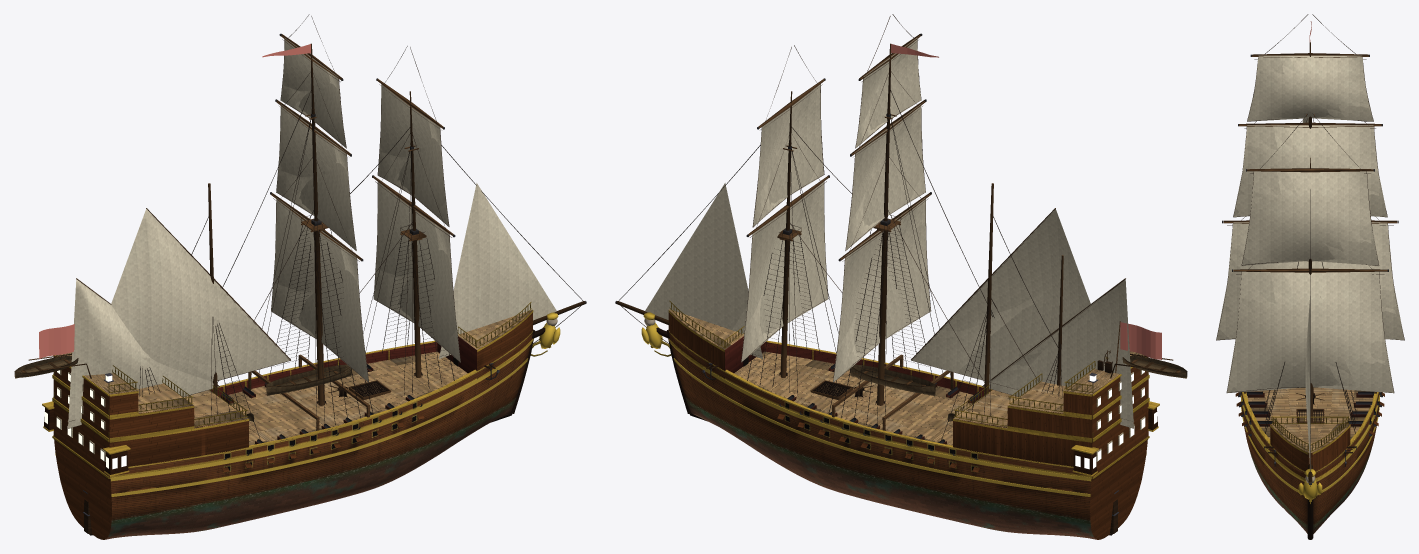
Rendered from galleon.glb.
3 renders of one model, left to right at view 1: azimuth 30°, elevation 25°; view 2: azimuth 150°, elevation 25°; view 3: azimuth 270°, elevation 25°, orthographic. The views are drawn at different scales.
Visible parts, largest first — view 1: LOD0_Body, LOD0_Wood, LOD2_m1_SquareSail, LOD2_Body, LOD2_m0_SquareSail, LOD0_m2_AftSail, LOD0_Jib, LOD0_m3_AftSail, LOD1_Wood, LOD2_Wood, LOD1_m2_AftSail, LOD0_m1_SquareSail (+11 smaller); view 2: LOD0_Wood, LOD0_Body, LOD2_m1_SquareSail, LOD2_m2_AftSail, LOD2_Body, LOD2_m0_SquareSail, LOD2_Jib, LOD1_Wood, LOD2_Wood, LOD2_m3_AftSail, LOD0_m2_AftSail, LOD0_m1_SquareSail (+11 smaller); view 3: LOD0_m0_SquareSail, LOD0_m1_SquareSail, LOD0_Body, LOD0_Wood, LOD2_Body, LOD2_m0_SquareSail, LOD1_m0_SquareSail, LOD1_m1_SquareSail, LOD2_m1_SquareSail, LOD2_m0_SquareYards, LOD2_m1_SquareYards, LOD0_m1_SquareYards (+7 smaller).
Part boxes in pixels (bbox=[...]): LOD0_Body: bbox=[53, 250, 560, 539]; LOD0_Wood: bbox=[14, 43, 586, 539]; LOD2_m1_SquareSail: bbox=[272, 38, 368, 382]; LOD2_Body: bbox=[108, 309, 532, 537]; LOD2_m0_SquareSail: bbox=[374, 85, 459, 359]; LOD0_m2_AftSail: bbox=[68, 209, 280, 421]; LOD0_Jib: bbox=[439, 183, 547, 359]; LOD0_m3_AftSail: bbox=[68, 279, 188, 428]; LOD1_Wood: bbox=[55, 91, 565, 539]; LOD2_Wood: bbox=[60, 112, 535, 537]; LOD1_m2_AftSail: bbox=[68, 214, 289, 421]; LOD0_m1_SquareSail: bbox=[271, 49, 367, 381]; LOD0_Wood: bbox=[615, 43, 1187, 539]; LOD0_Body: bbox=[641, 251, 1148, 539]; LOD2_m1_SquareSail: bbox=[834, 41, 930, 375]; LOD2_m2_AftSail: bbox=[943, 209, 1130, 418]; LOD2_Body: bbox=[669, 309, 1093, 537]; LOD2_m0_SquareSail: bbox=[742, 95, 826, 354]; LOD2_Jib: bbox=[645, 183, 761, 357]; LOD1_Wood: bbox=[617, 109, 1146, 539]; LOD2_Wood: bbox=[642, 143, 1141, 537]; LOD2_m3_AftSail: bbox=[1013, 279, 1132, 401]; LOD0_m2_AftSail: bbox=[911, 239, 1133, 421]; LOD0_m1_SquareSail: bbox=[833, 38, 929, 381]; LOD0_m0_SquareSail: bbox=[1227, 171, 1385, 392]; LOD0_m1_SquareSail: bbox=[1216, 55, 1395, 339]; LOD0_Body: bbox=[1238, 391, 1382, 533]; LOD0_Wood: bbox=[1235, 42, 1384, 539]; LOD2_Body: bbox=[1247, 387, 1373, 533]; LOD2_m0_SquareSail: bbox=[1227, 171, 1393, 393]; LOD1_m0_SquareSail: bbox=[1232, 171, 1386, 389]; LOD1_m1_SquareSail: bbox=[1217, 55, 1396, 338]; LOD2_m1_SquareSail: bbox=[1217, 55, 1404, 339]; LOD2_m0_SquareYards: bbox=[1233, 169, 1387, 272]; LOD2_m1_SquareYards: bbox=[1223, 54, 1397, 223]; LOD0_m1_SquareYards: bbox=[1216, 14, 1404, 340].
Bounding box in the file's own units: 62.36 × 50.04 × 18.59.
5 materials, 3 textured.
